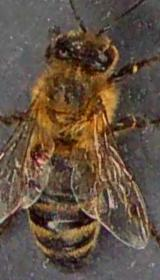varroa_mite: (20, 142, 58, 168)
